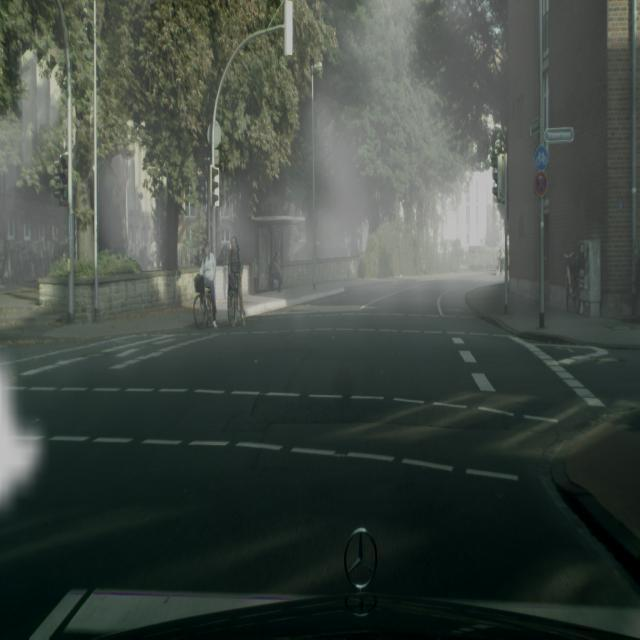car: (562, 247, 583, 314), (193, 273, 217, 329), (227, 272, 246, 326)
person: (227, 235, 245, 321), (200, 241, 217, 324), (272, 250, 283, 292)
